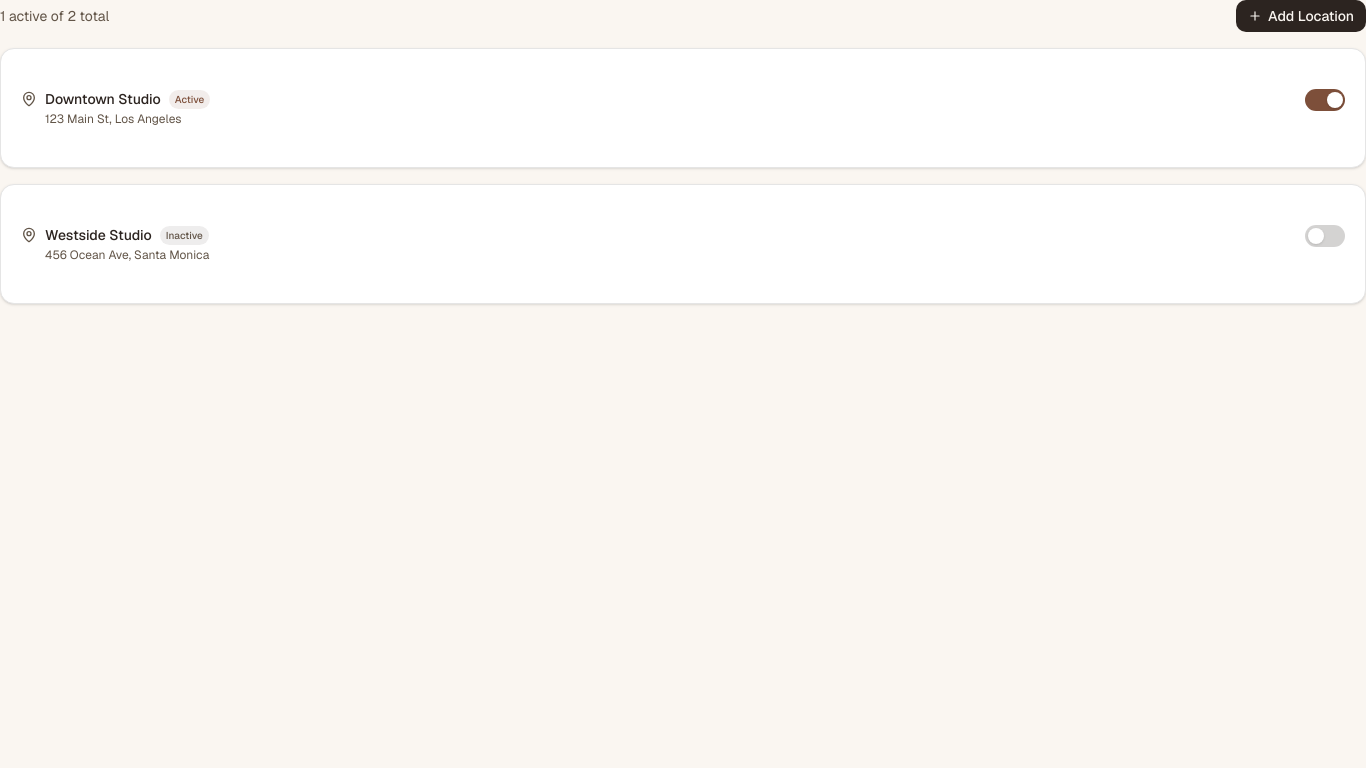
Test case: LocationsTab › add dialog › opens when Add Location is clicked
The image size is (1366, 768).
Click the button "Add Location" at coordinates (1301, 16), box x1=1236 y1=0 x2=1365 y2=32
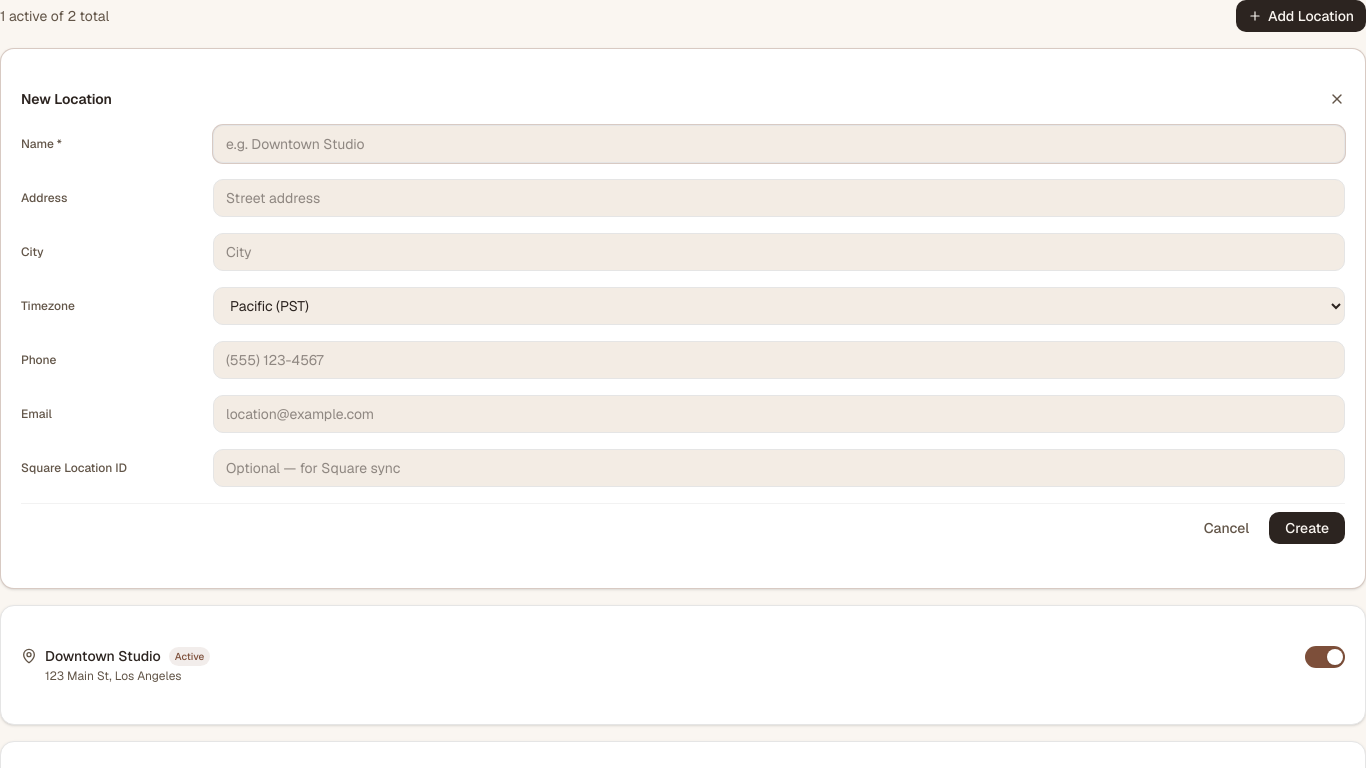
Now the heading "New Location" is shown, box x1=21 y1=89 x2=112 y2=109
Now the field with placeholder "e.g. Downtown Studio" is shown, box x1=213 y1=125 x2=1345 y2=163
